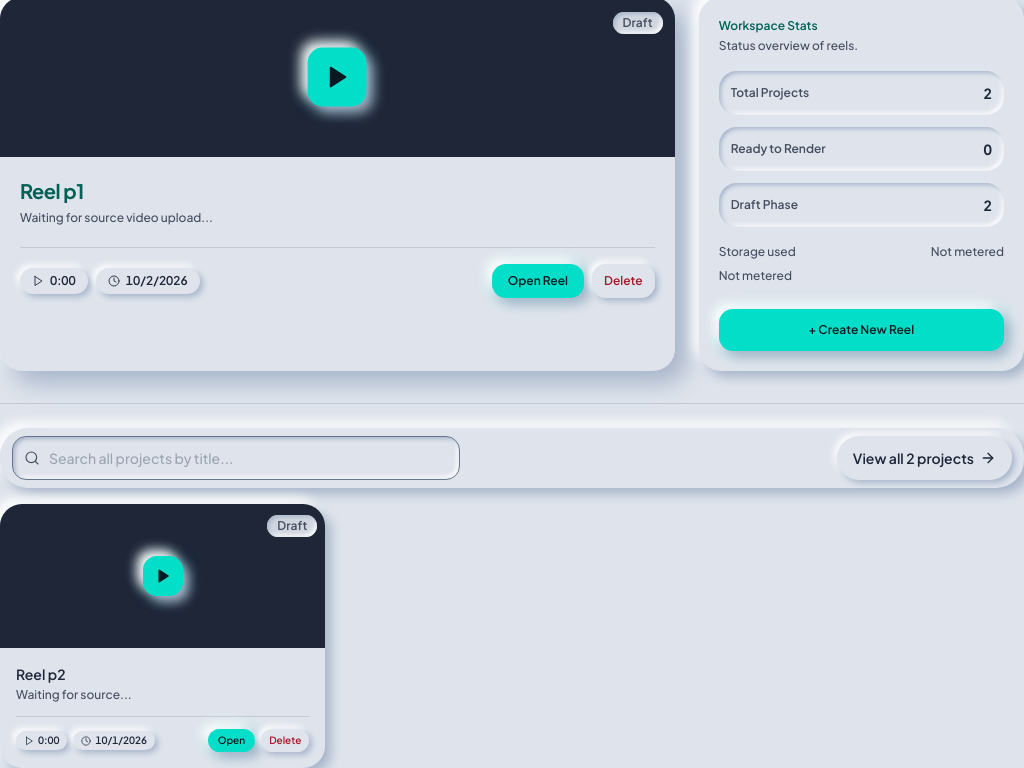
DashboardClient delete › confirms first, deletes once and removes the card
This screenshot has width=1024, height=768.
(page scrolled)
Click the button with aria-label "Delete Reel p2" at (285, 740), box [261, 729, 309, 752]
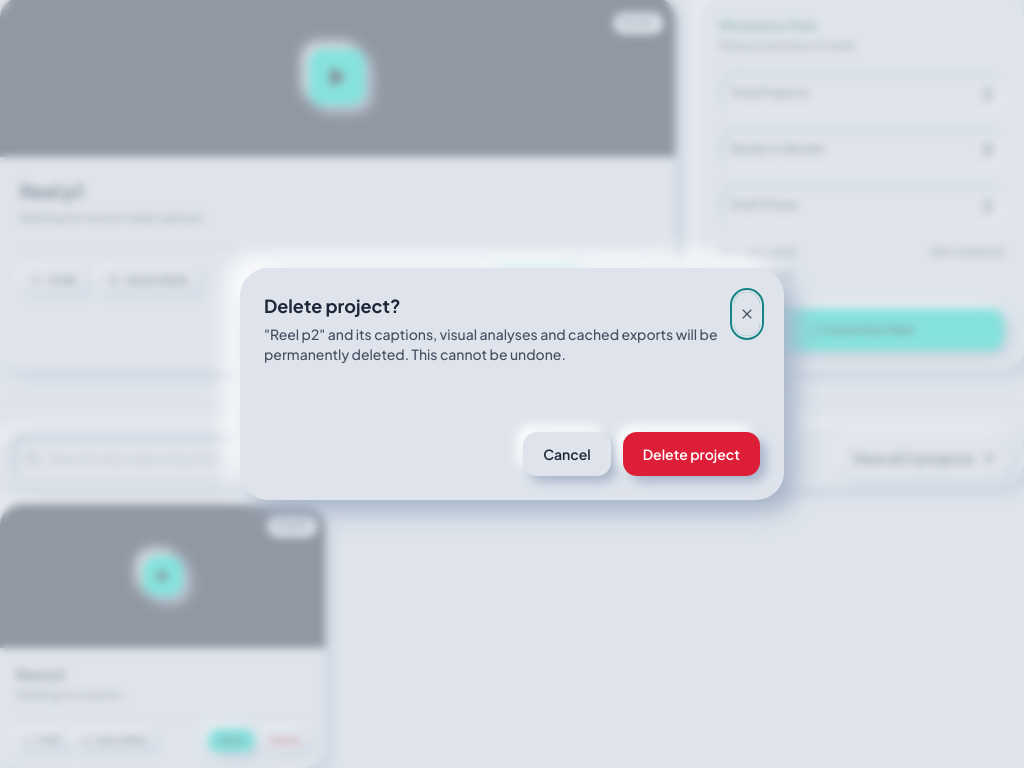
Double-click the button "Delete project" at (691, 454), box [623, 432, 760, 476]
(page scrolled)
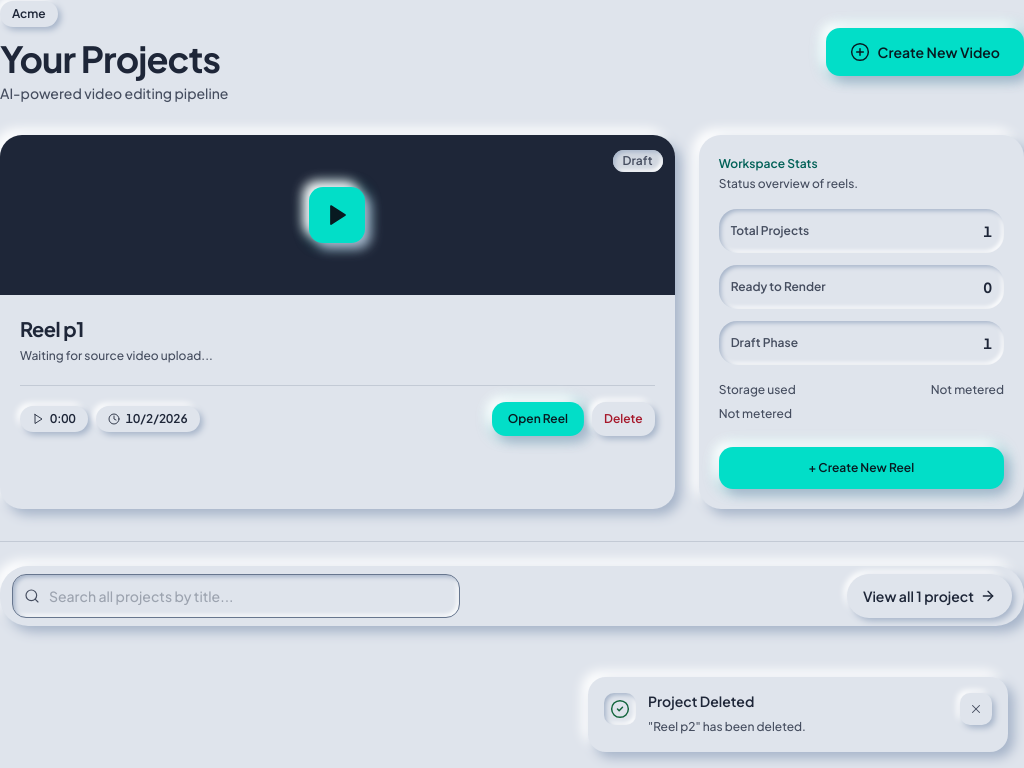
Result: the text "\"Reel p2\" has been deleted." is shown at [648, 718, 806, 734]
